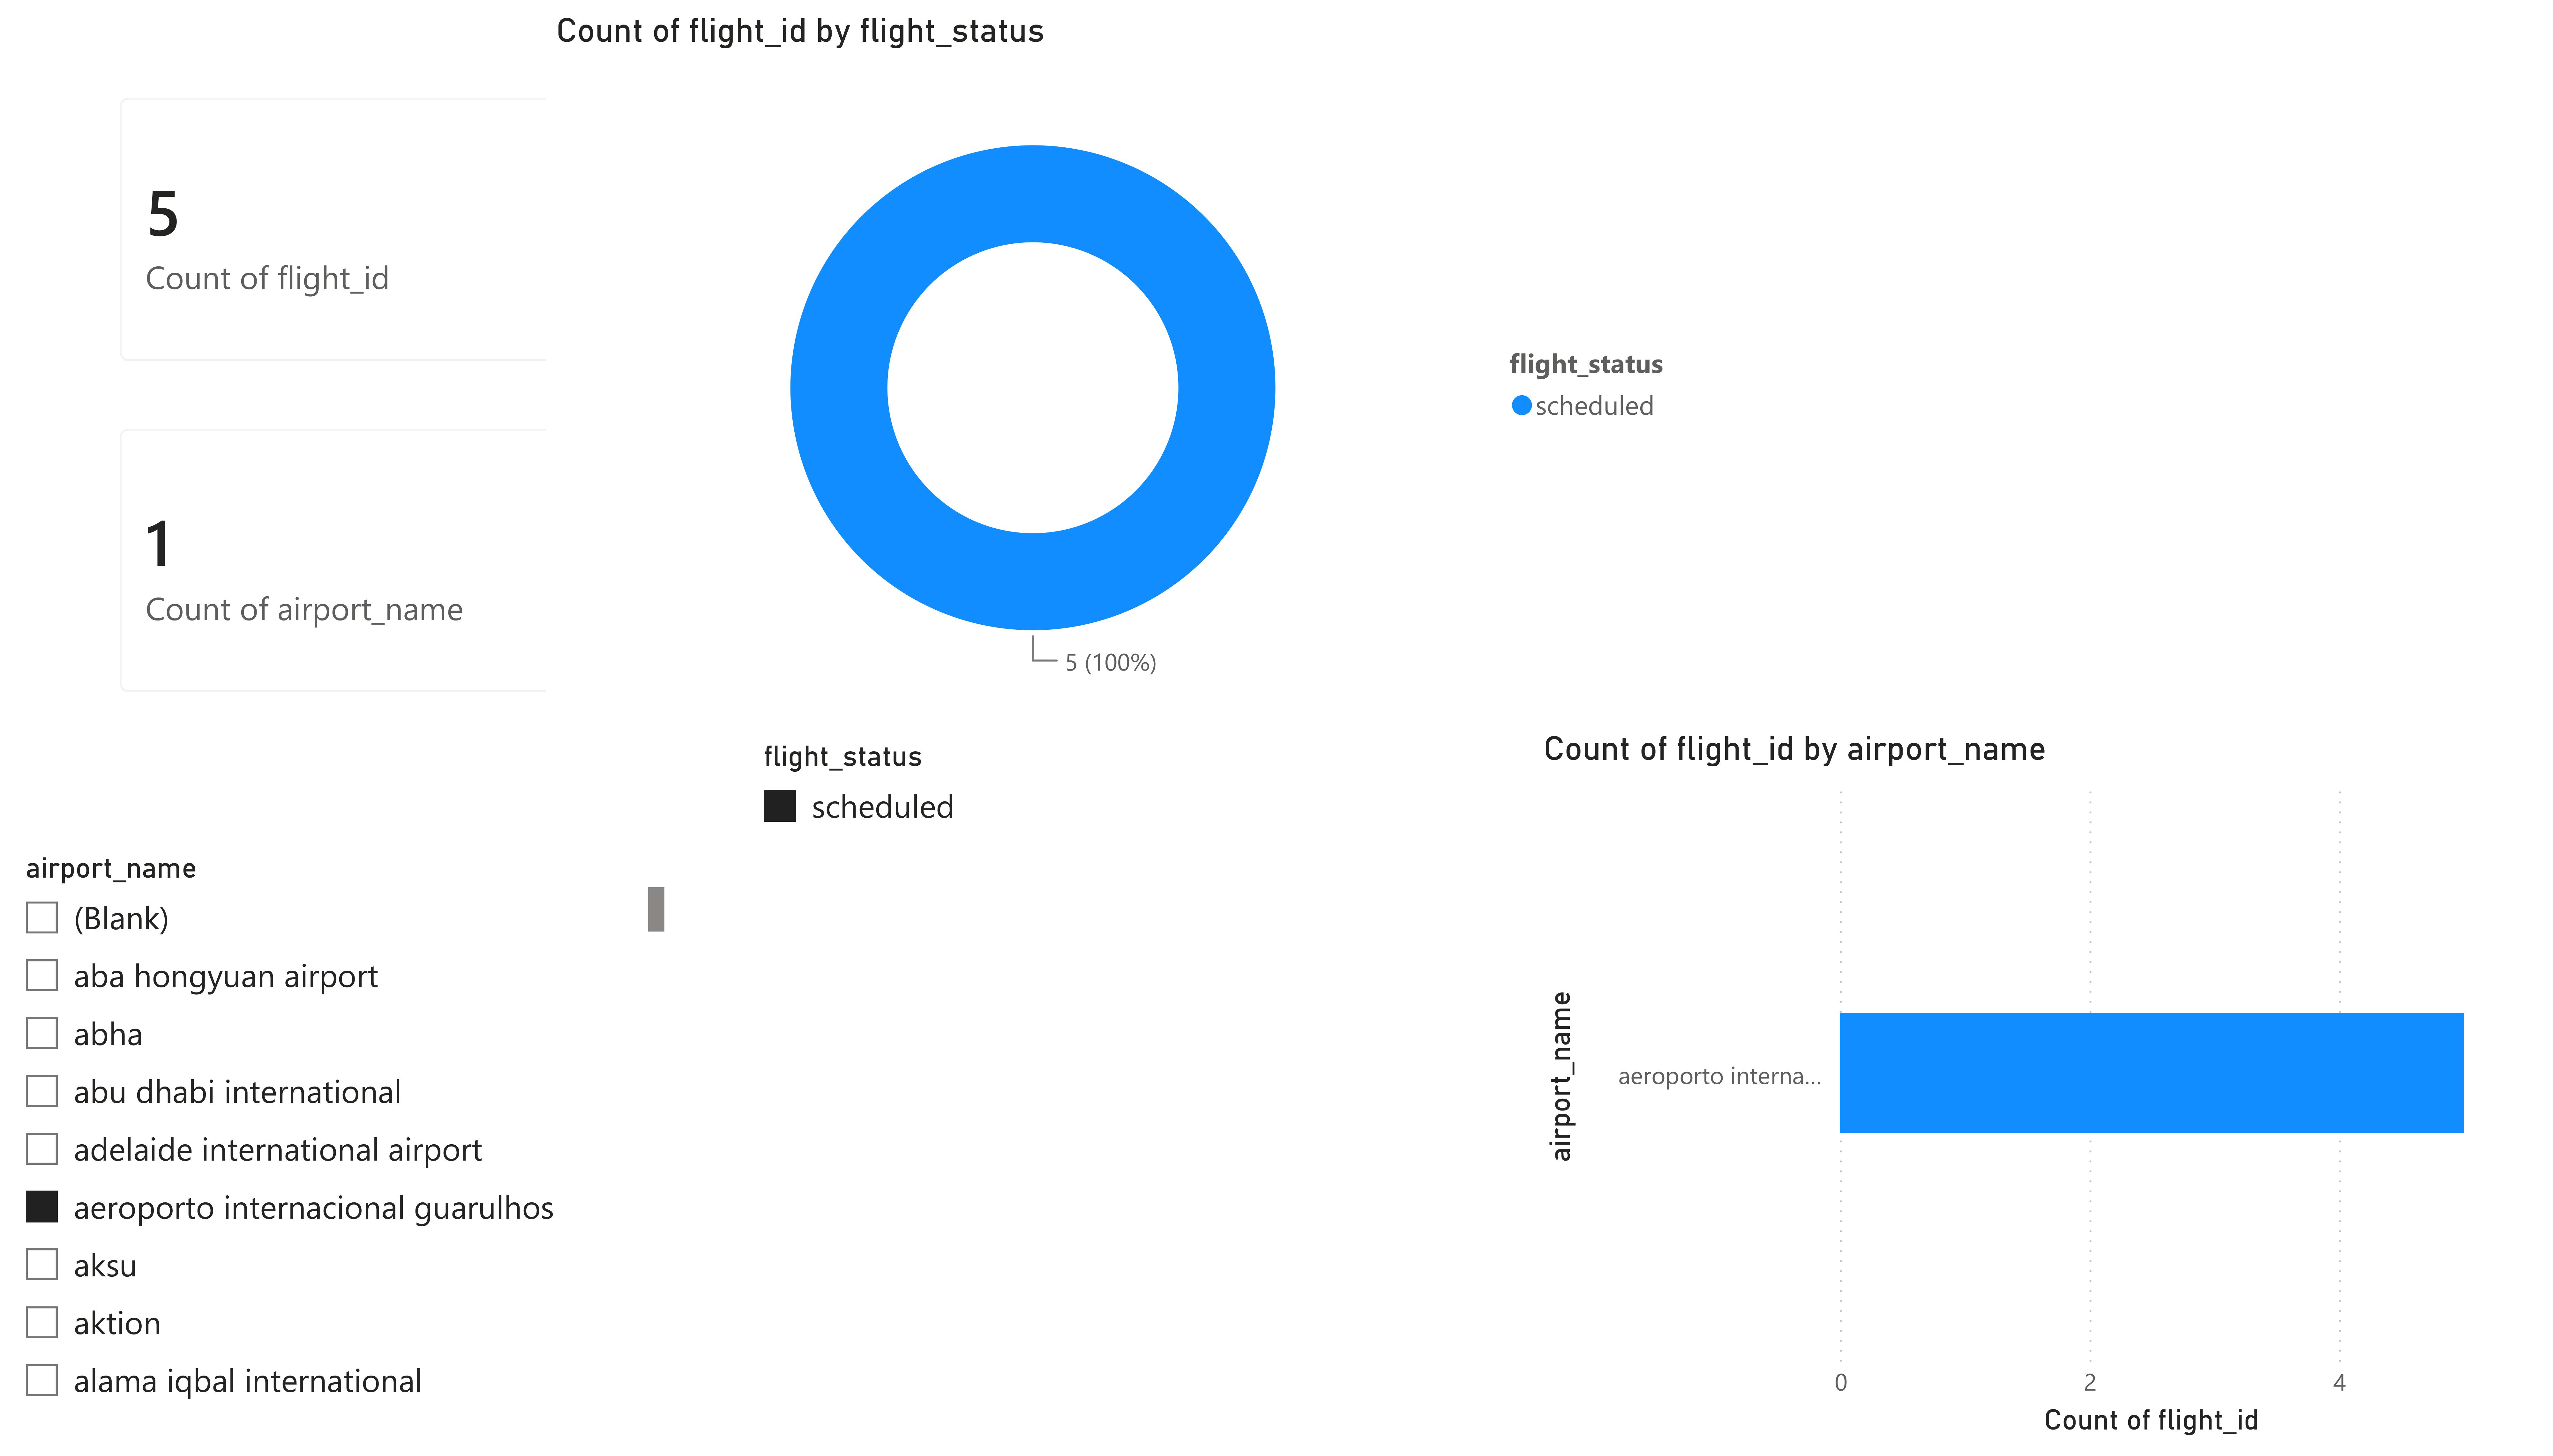

This screenshot's page, from the dashboard's own definition file:
{"tool":"powerbi","page":{"name":"Page 1","canvas":[1280,720],"ordinal":0},"visuals":[{"type":"cardVisual","fields":{"Data":["CountNonNull(fact_flights.flight_id)"]},"box":[43.3,27.4,280.1,166.1],"z":0},{"type":"cardVisual","fields":{"Data":["CountNonNull(dim_airports.airport_name)"]},"box":[43.3,193.5,280.1,166.1],"z":1},{"type":"donutChart","fields":{"Category":["fact_flights.flight_status"],"Y":["CountNonNull(fact_flights.flight_id)"]},"box":[274.2,0,580.7,359.9],"z":2},{"type":"barChart","fields":{"Category":["dim_airports.airport_name"],"Y":["CountNonNull(fact_flights.flight_id)"]},"box":[769.3,359.9,475.3,359.9],"z":3},{"type":"slicer","fields":{"Values":["dim_airports.airport_name"]},"box":[0,417.3,337.9,285.9],"z":4},{"type":"slicer","fields":{"Values":["fact_flights.flight_status"]},"box":[369.7,361,389.9,359.5],"z":5}]}

Visuals, with their boxes in screenshot pixels (x1, y1, x2, y2), scaled from the page's 1280x720 canvas onto the 2553x1456 screenshot:
cardVisual - CountNonNull(fact_flights.flight_id): bbox=[86, 56, 645, 391]
cardVisual - CountNonNull(dim_airports.airport_name): bbox=[86, 391, 645, 727]
donutChart - fact_flights.flight_status x CountNonNull(fact_flights.flight_id): bbox=[547, 0, 1705, 728]
barChart - dim_airports.airport_name x CountNonNull(fact_flights.flight_id): bbox=[1534, 728, 2482, 1456]
slicer - dim_airports.airport_name: bbox=[0, 844, 674, 1422]
slicer - fact_flights.flight_status: bbox=[737, 730, 1515, 1456]
